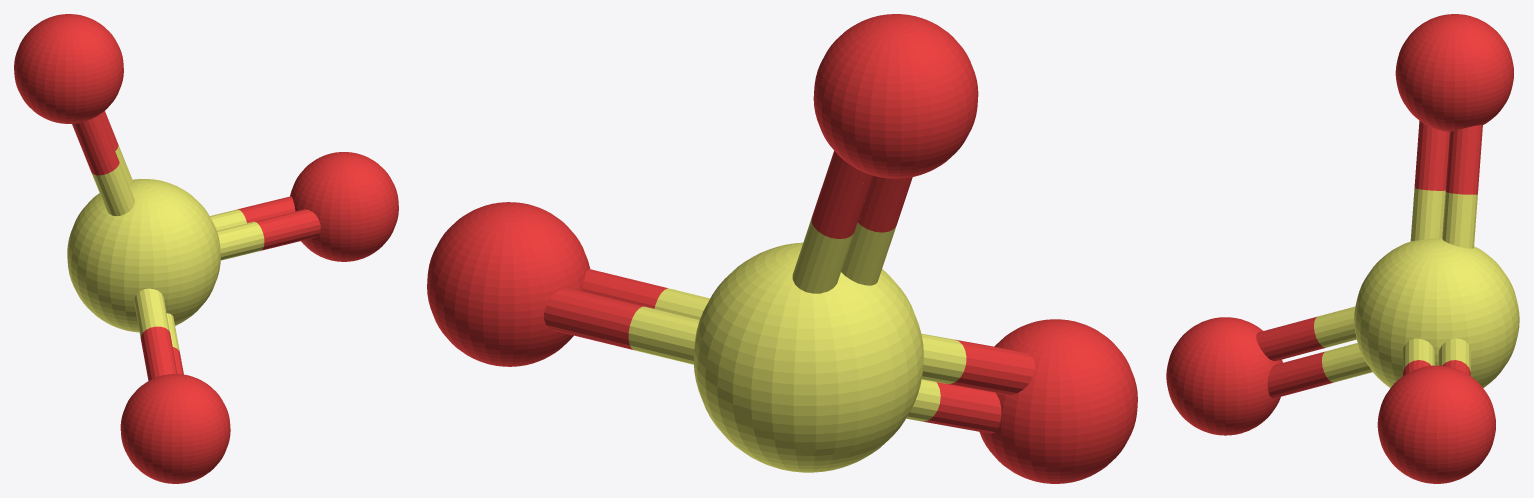
3 renders of one model, left to right at view 1: azimuth 30°, elevation 25°; view 2: azimuth 150°, elevation 25°; view 3: azimuth 270°, elevation 25°, orthographic. The views are drawn at different scales.
Parts seen in each view (by area): view 1: Ball_Sulfur.001, Ball_Oxygen.001, Ball_Oxygen.002, Ball_Oxygen.003; view 2: Ball_Sulfur.001, Ball_Oxygen.002, Ball_Oxygen.003, Ball_Oxygen.001; view 3: Ball_Sulfur.001, Ball_Oxygen.003, Ball_Oxygen.002, Ball_Oxygen.001.
Part boxes in pixels (bbox=[...]): Ball_Sulfur.001: bbox=[67, 179, 220, 332]; Ball_Oxygen.001: bbox=[120, 374, 230, 483]; Ball_Oxygen.002: bbox=[14, 14, 123, 123]; Ball_Oxygen.003: bbox=[290, 152, 398, 261]; Ball_Sulfur.001: bbox=[693, 242, 923, 472]; Ball_Oxygen.002: bbox=[813, 14, 978, 178]; Ball_Oxygen.003: bbox=[427, 202, 590, 366]; Ball_Oxygen.001: bbox=[979, 319, 1137, 483]; Ball_Sulfur.001: bbox=[1354, 237, 1519, 387]; Ball_Oxygen.003: bbox=[1377, 365, 1495, 483]; Ball_Oxygen.002: bbox=[1395, 14, 1513, 131]; Ball_Oxygen.001: bbox=[1166, 317, 1282, 435].
Bounding box in the file's own units: 277 × 279 × 218.
